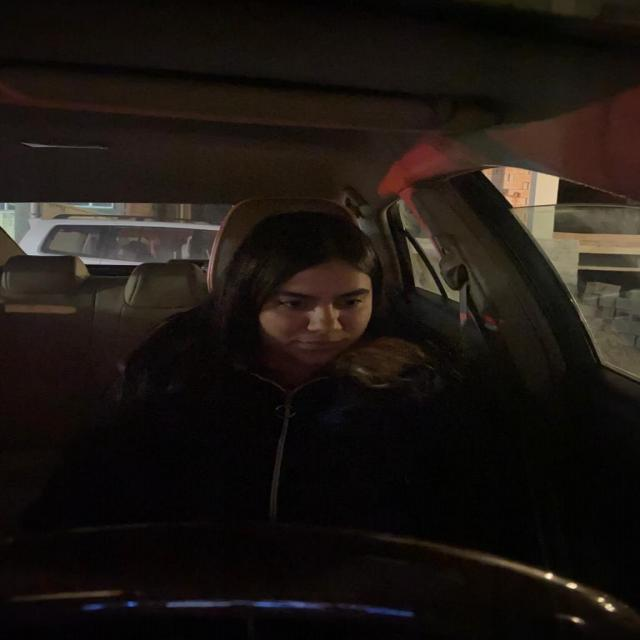person: (224, 206, 386, 367)
